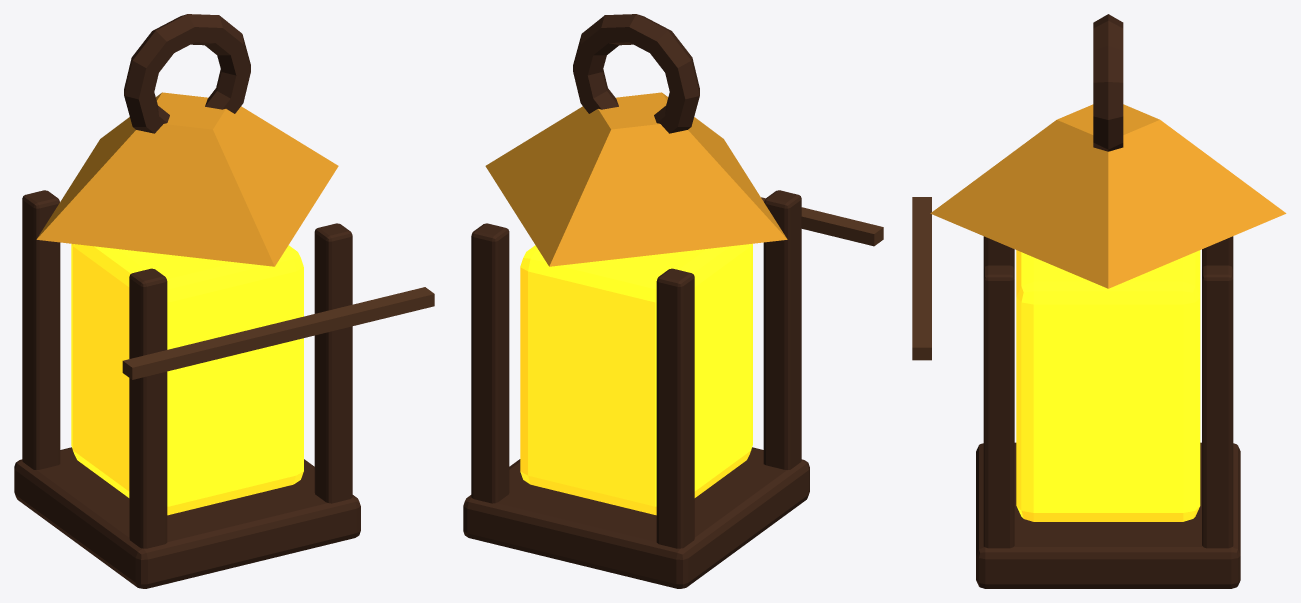
Rendered from kit_lantern.glb.
3 renders of one model, left to right at view 1: azimuth 30°, elevation 25°; view 2: azimuth 150°, elevation 25°; view 3: azimuth 270°, elevation 25°, orthographic. The views are drawn at different scales.
Parts seen in each view (by area): view 1: Lantern amber glass, Lantern roof, Lantern bottom, Lantern corner.001, Lantern corner, Lantern corner.002, Lantern hanger, Woodland worn prop binding.001; view 2: Lantern amber glass, Lantern roof, Lantern bottom, Lantern corner.001, Lantern corner.003, Lantern corner, Lantern hanger, Woodland worn prop binding.001; view 3: Lantern amber glass, Lantern roof, Lantern bottom, Lantern corner.003, Lantern corner.002, Lantern hanger, Woodland worn prop binding.001, Lantern corner.001, Lantern corner.
Part boxes in pixels (<box>): Lantern amber glass: <box>71,243,303,515</box>; Lantern roof: <box>36,92,338,266</box>; Lantern bottom: <box>14,447,360,588</box>; Lantern corner.001: <box>22,190,60,469</box>; Lantern corner: <box>129,268,167,548</box>; Lantern corner.002: <box>314,223,352,503</box>; Lantern hanger: <box>124,14,250,133</box>; Woodland worn prop binding.001: <box>122,287,434,379</box>; Lantern amber glass: <box>520,243,752,515</box>; Lantern roof: <box>485,92,787,266</box>; Lantern bottom: <box>463,447,809,588</box>; Lantern corner.001: <box>656,268,694,548</box>; Lantern corner.003: <box>471,223,509,503</box>; Lantern corner: <box>763,190,801,469</box>; Lantern hanger: <box>573,14,699,133</box>; Woodland worn prop binding.001: <box>761,197,883,246</box>; Lantern amber glass: <box>1016,250,1200,521</box>; Lantern roof: <box>930,104,1286,288</box>; Lantern bottom: <box>976,442,1240,588</box>; Lantern corner.003: <box>1202,265,1233,548</box>; Lantern corner.002: <box>983,265,1014,548</box>; Lantern hanger: <box>1093,14,1123,151</box>; Woodland worn prop binding.001: <box>912,197,931,360</box>; Lantern corner.001: <box>1202,236,1233,269</box>; Lantern corner: <box>983,236,1014,268</box>.
Size of the model in its own units: 0.31 by 0.495 by 0.3255.
